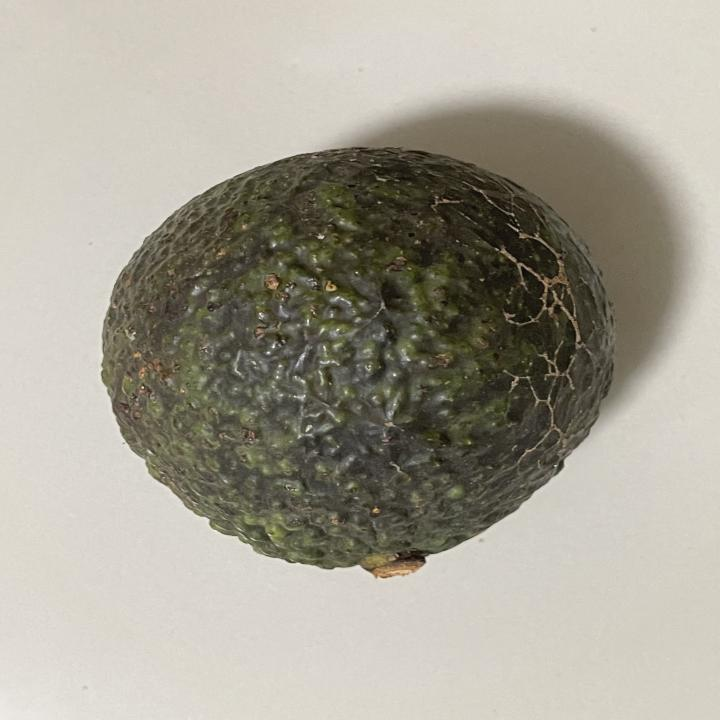Level1: (79, 134, 625, 594)
